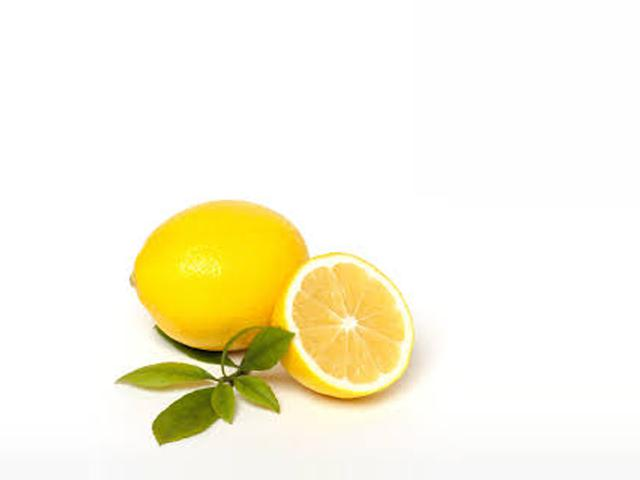lemon: (112, 192, 306, 345)
